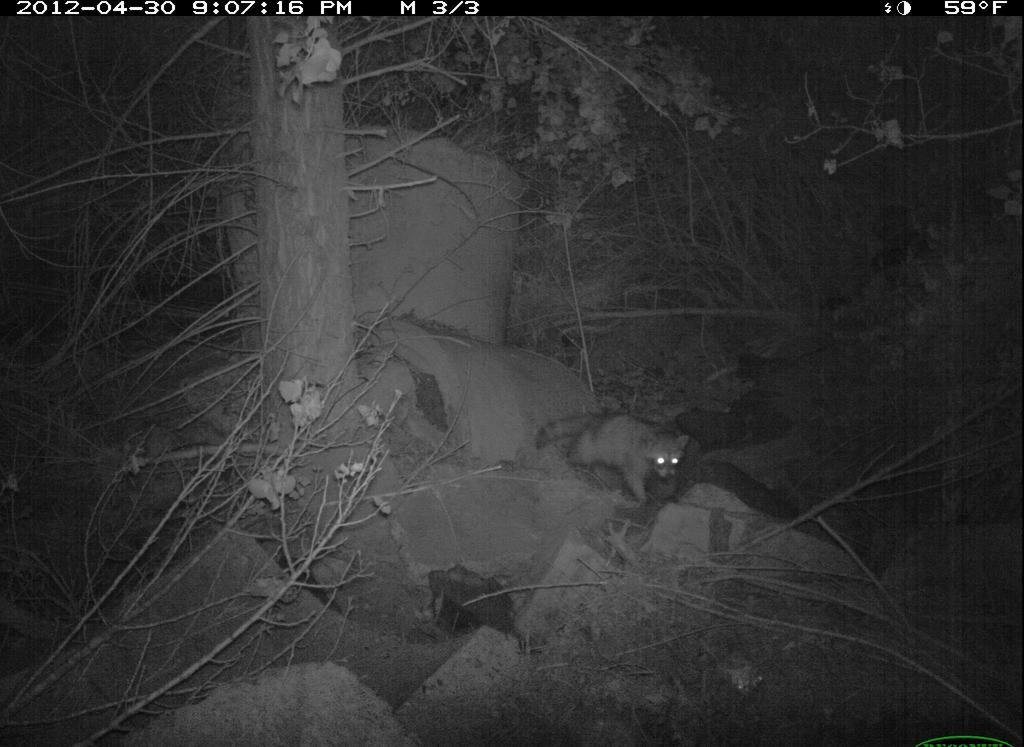raccoon: (533, 408, 701, 510)
